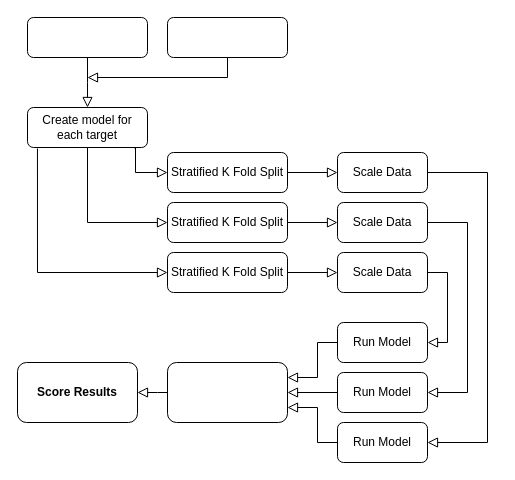
Image size: 515x480. Some labels were removed from this diagram. Here are the shapes that lost their labels. From the top down, the centre of each, then its label:
(x=87, y=37): Regression Model
(x=227, y=37): Data
(x=227, y=392): Combine Results
